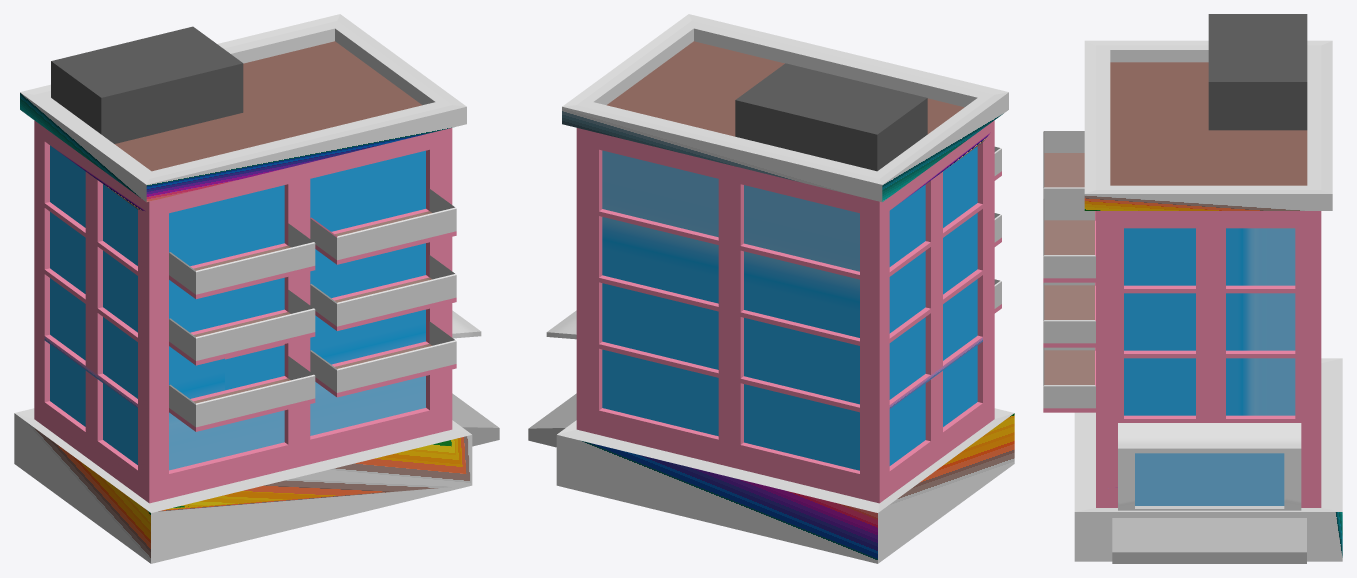
Rendered from building2.obj.
3 views of the same model, side by side, from view 1: azimuth 30°, elevation 25°; view 2: azimuth 150°, elevation 25°; view 3: azimuth 270°, elevation 25° (orthographic). The views are drawn at different scales.
Parts seen in each view (by area): view 1: building2; view 2: building2; view 3: building2.
Boxes of the visible parts, bbox=[...] form: building2: bbox=[14, 14, 499, 563]; building2: bbox=[528, 14, 1014, 563]; building2: bbox=[1043, 14, 1342, 563].
Size of the model in its own units: 79.95 by 85.48 by 57.53.
1 material, 1 textured.
